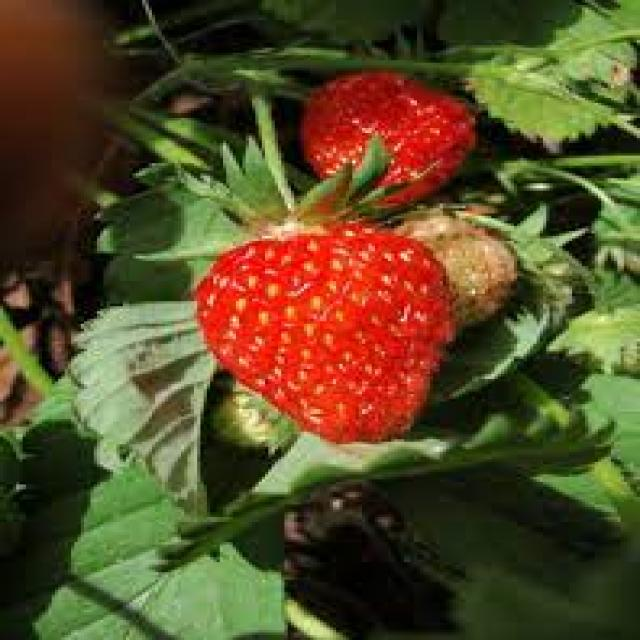mature: (197, 219, 455, 444)
